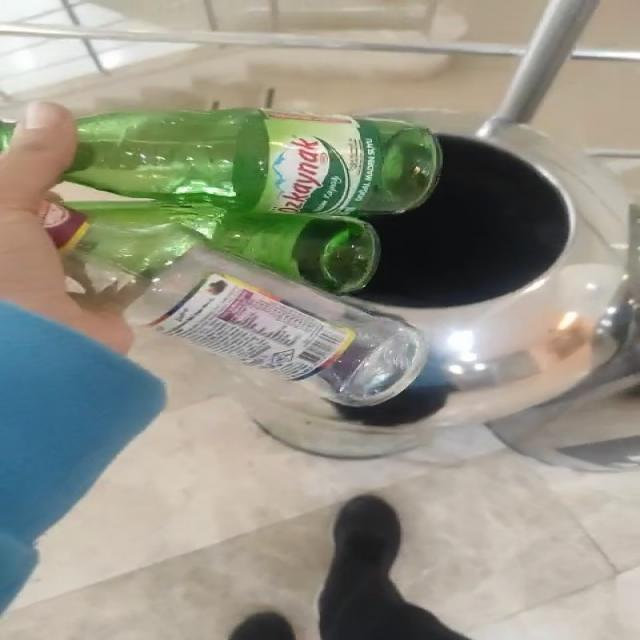glass: (43, 108, 443, 407)
